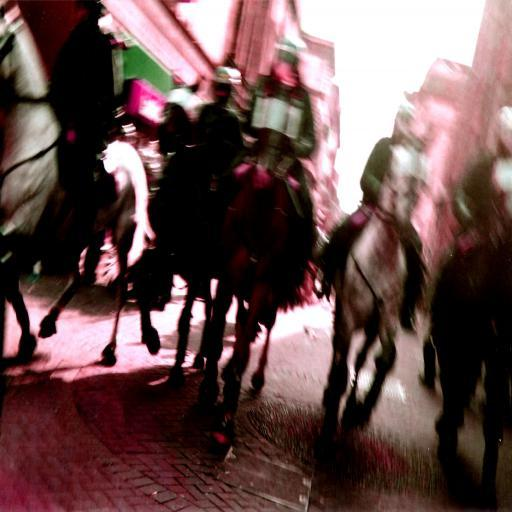Horse: (0, 0, 158, 369), (319, 115, 440, 405)
